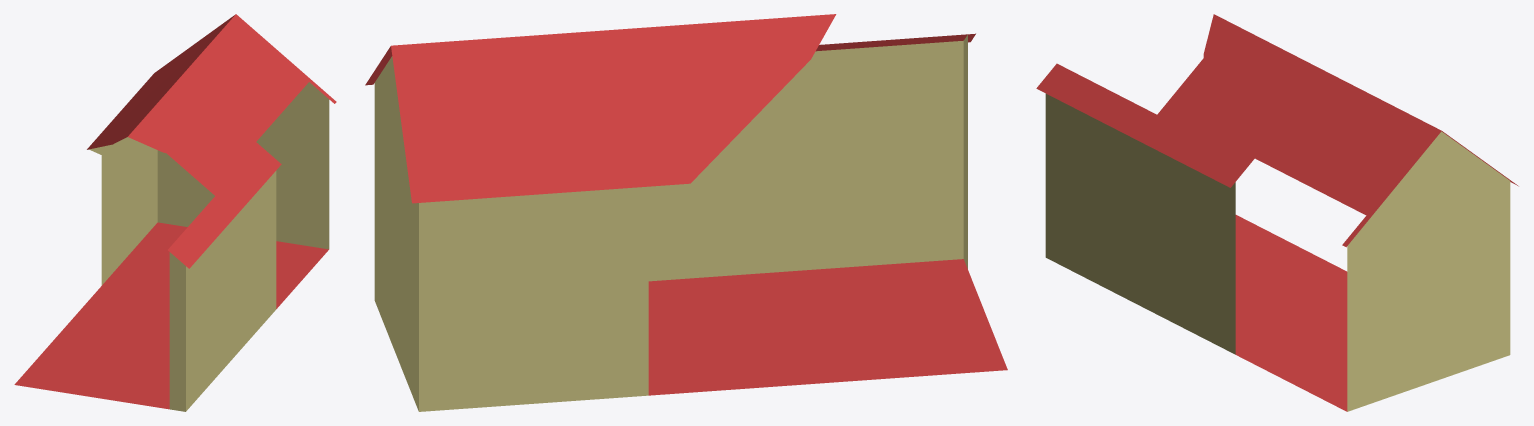
3 views of the same model, side by side, from view 1: azimuth 30°, elevation 25°; view 2: azimuth 150°, elevation 25°; view 3: azimuth 270°, elevation 25° (orthographic). The views are drawn at different scales.
Bounding box in the file's own units: 19.03 × 18.06 × 10.38.
